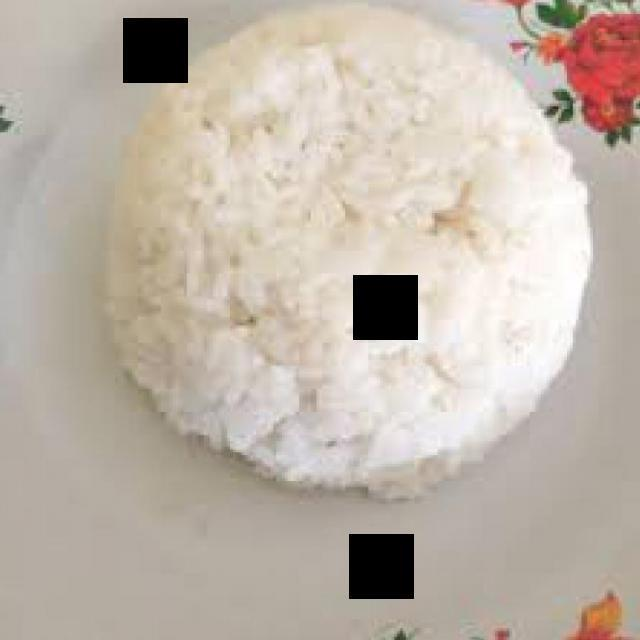Chicken -Chicken Inasal-: (108, 5, 594, 501)
